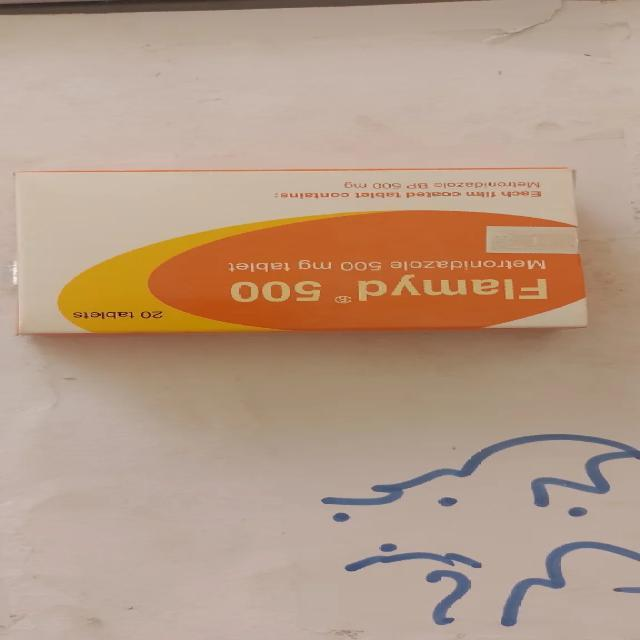drug-name: (232, 274, 550, 304)
